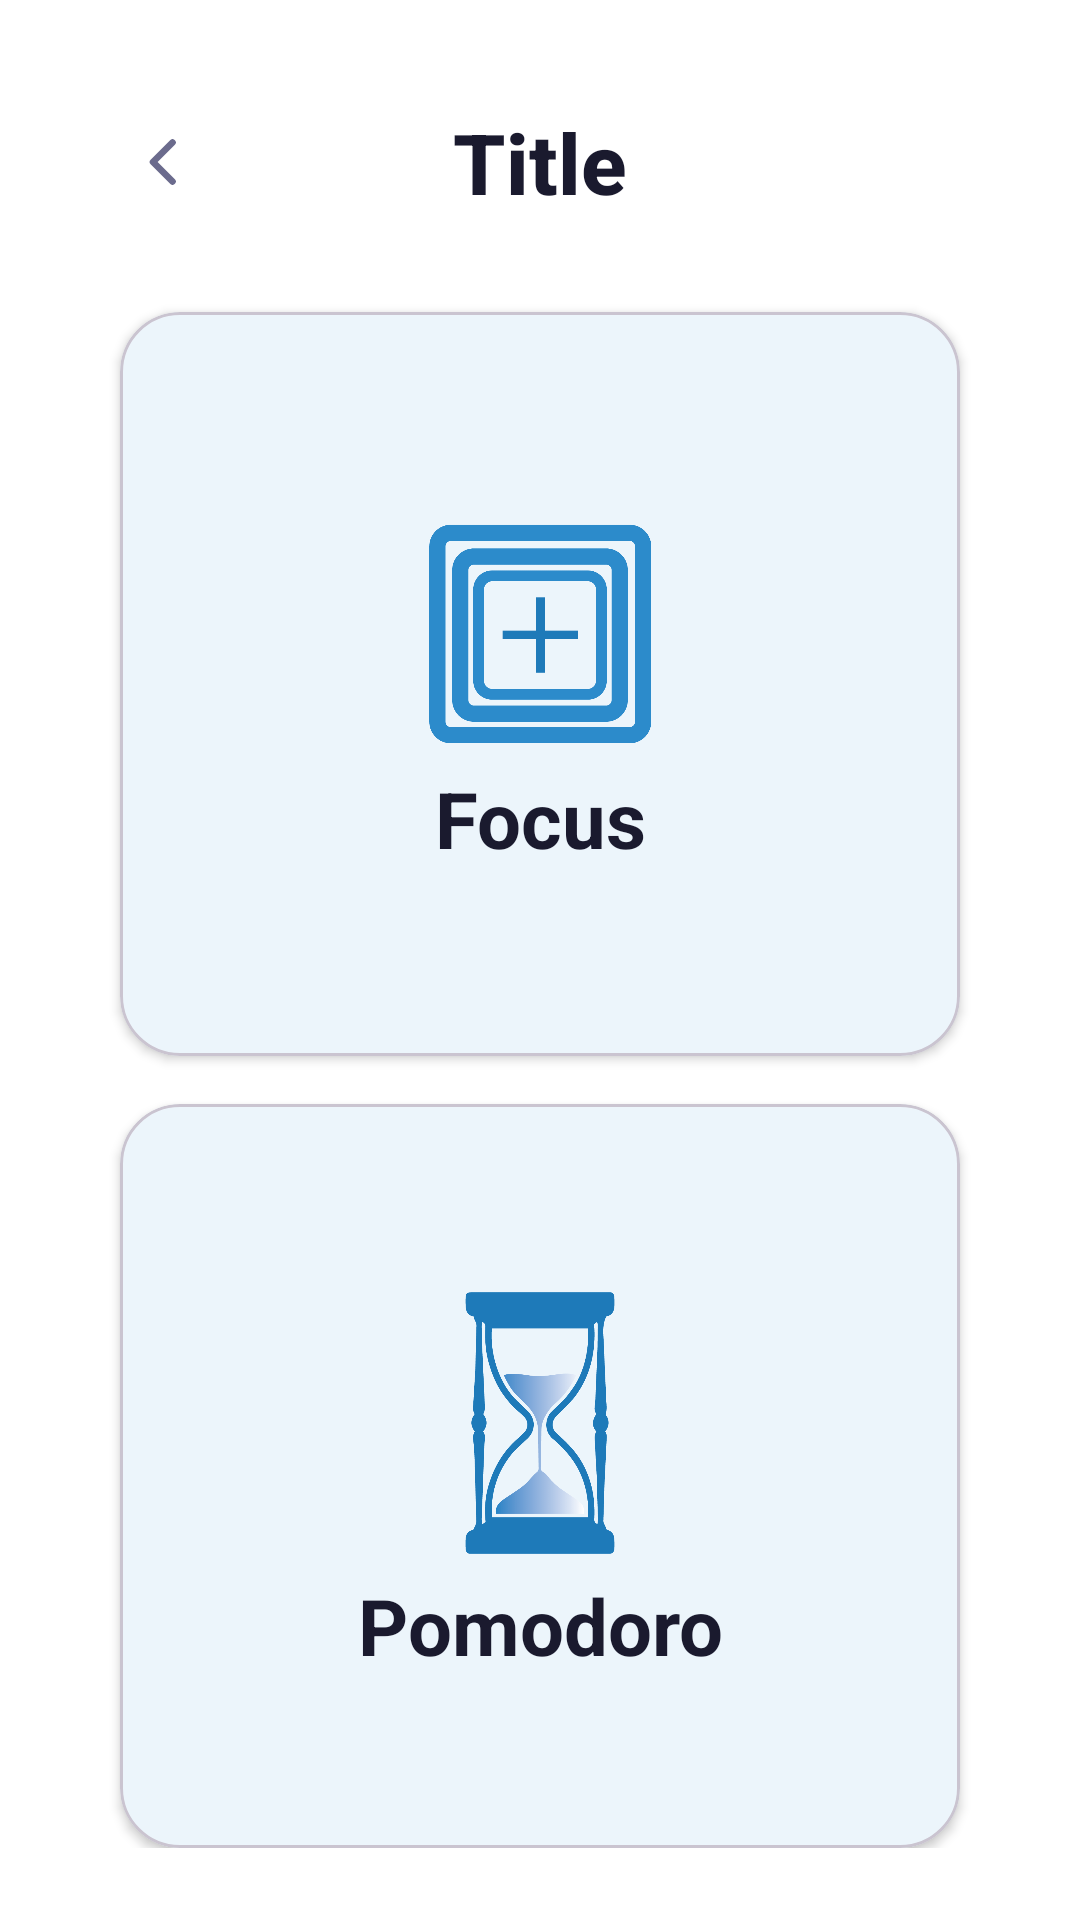

Icon click points for this 1080px×1920px phone screenshot, format point (x, y):
Back: point (162, 162)
